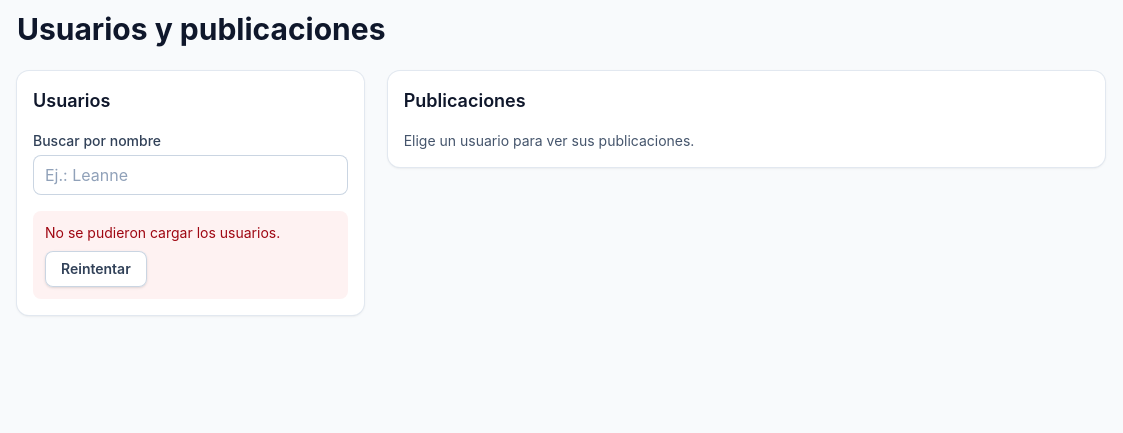
users list › shows an error and recovers on retry
Expected: the message shows "No se pudieron cargar los usuarios.", top-left (45, 224), bottom-right (280, 241)
Click the button "Reintentar". click: point(96, 269)
box: top-left (45, 251), bottom-right (147, 287)
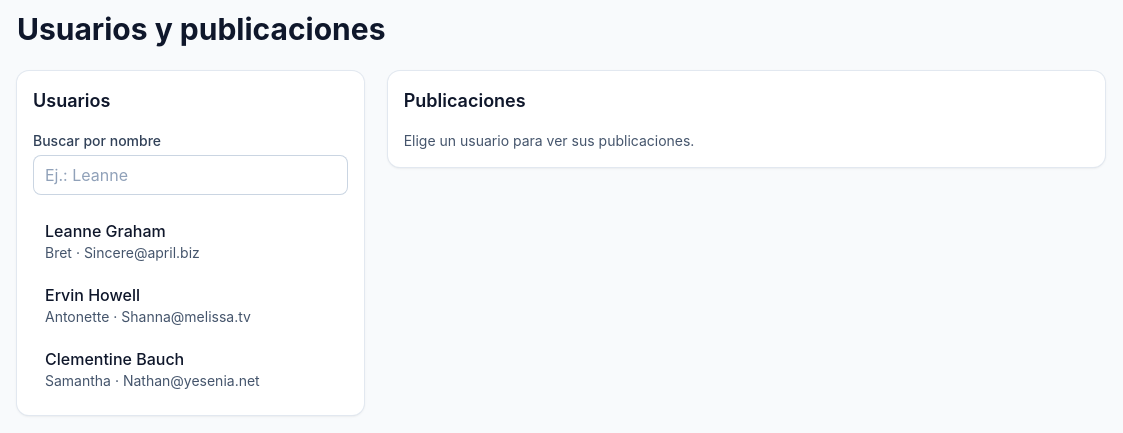
Now the text "Leanne Graham" is shown, box top-left (45, 221), bottom-right (166, 241)
Now the message "No se pudieron cargar los usuarios. Reintentar" is gone
